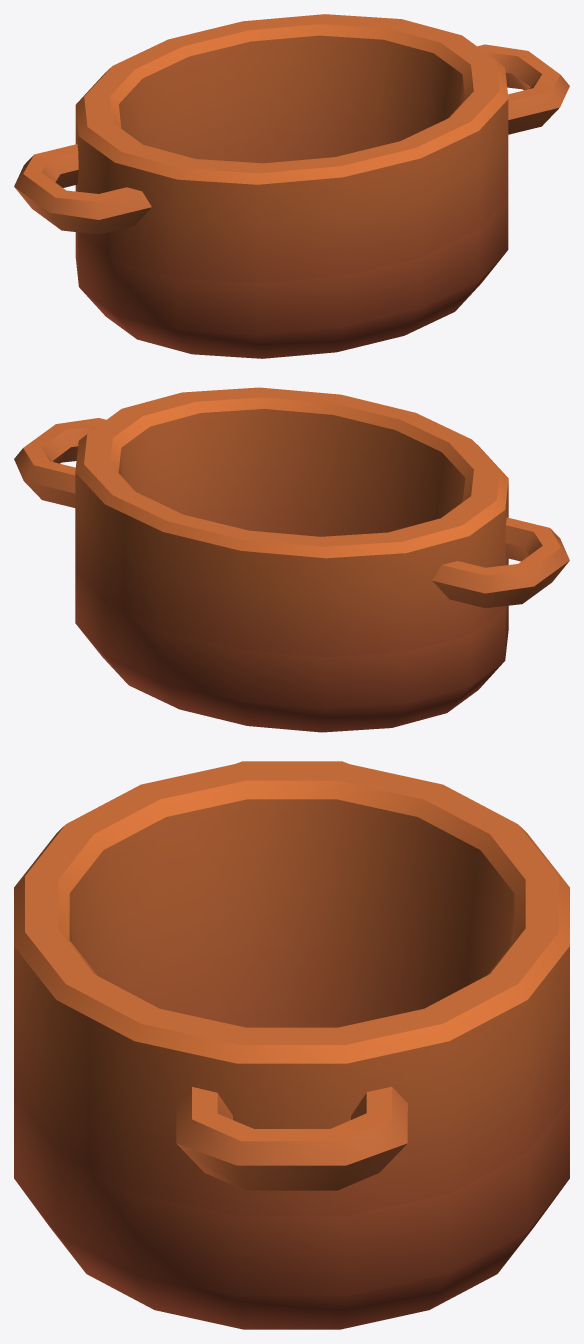
The model's file is prop_pot_large.glb.
The picture shows the model from 3 angles, top to bottom: view 1: azimuth 30°, elevation 25°; view 2: azimuth 150°, elevation 25°; view 3: azimuth 270°, elevation 25°; orthographic projection. The views are drawn at different scales.
Parts seen in each view (by area): view 1: pot_large; view 2: pot_large; view 3: pot_large.
Boxes of the visible parts, bbox=[...] form: pot_large: bbox=[14, 14, 569, 358]; pot_large: bbox=[14, 387, 569, 732]; pot_large: bbox=[14, 761, 569, 1329].
Bounding box in the file's own units: 2 × 0.75 × 1.2.
1 material, 1 textured.
